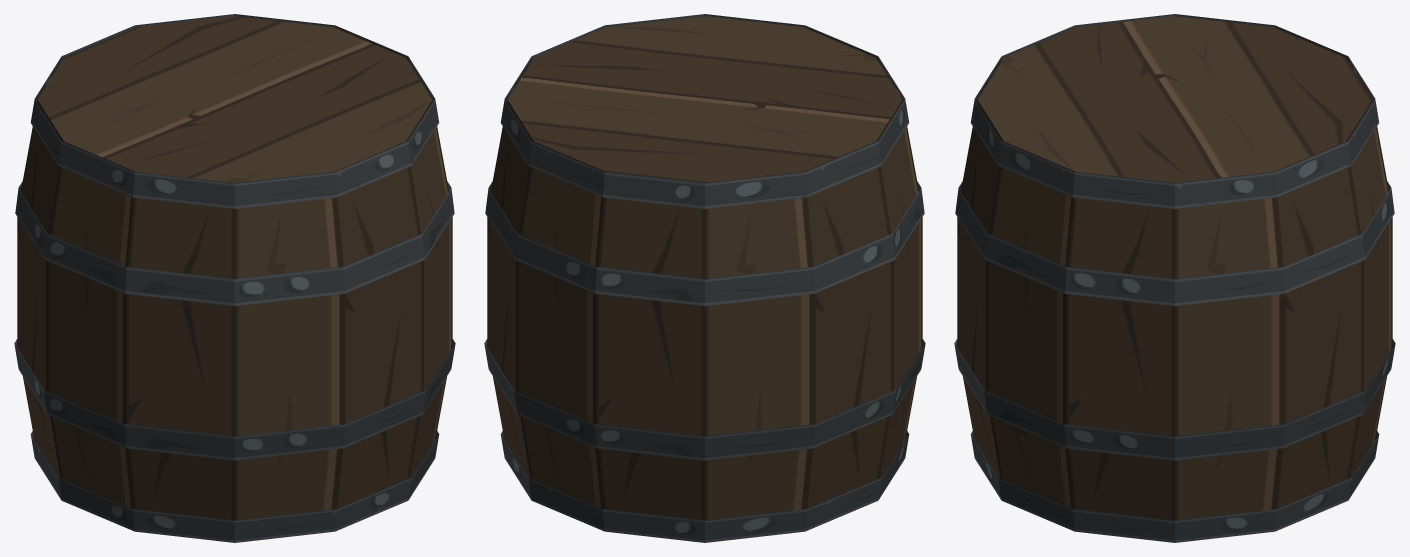
The model's file is Barrel.fbx.
The picture shows the model from 3 angles, left to right: view 1: azimuth 30°, elevation 25°; view 2: azimuth 150°, elevation 25°; view 3: azimuth 270°, elevation 25°; orthographic projection.
Parts seen in each view (by area): view 1: Lid_001, Plank_005, Plank_004, Plank_003, Plank_006, Rim_001, Rim_002, Rim_003, Rim_004, Plank_007, Plank_002; view 2: Lid_001, Plank_011, Plank_001, Plank_010, Plank_002, Rim_001, Rim_002, Rim_003, Rim_004, Plank_012, Plank_003; view 3: Lid_001, Plank_009, Plank_008, Plank_012, Plank_007, Rim_001, Rim_002, Rim_003, Rim_004, Plank_010, Plank_006.
Boxes of the visible parts, left/top/right/bottom form: Lid_001: left=37, top=16, right=432, bottom=182; Plank_005: left=235, top=172, right=343, bottom=520; Plank_004: left=126, top=172, right=234, bottom=520; Plank_003: left=46, top=141, right=135, bottom=508; Plank_006: left=334, top=141, right=423, bottom=508; Rim_001: left=30, top=14, right=439, bottom=208; Rim_002: left=15, top=181, right=454, bottom=306; Rim_003: left=14, top=339, right=455, bottom=460; Rim_004: left=30, top=431, right=439, bottom=542; Plank_007: left=406, top=100, right=452, bottom=478; Plank_002: left=17, top=100, right=63, bottom=478; Lid_001: left=507, top=16, right=902, bottom=182; Plank_011: left=596, top=172, right=704, bottom=520; Plank_001: left=705, top=172, right=813, bottom=520; Plank_010: left=516, top=141, right=605, bottom=508; Plank_002: left=804, top=141, right=893, bottom=508; Rim_001: left=500, top=14, right=909, bottom=208; Rim_002: left=485, top=181, right=924, bottom=306; Rim_003: left=484, top=339, right=925, bottom=460; Rim_004: left=500, top=431, right=909, bottom=542; Plank_012: left=487, top=100, right=533, bottom=478; Plank_003: left=876, top=100, right=922, bottom=478; Lid_001: left=977, top=16, right=1372, bottom=182; Plank_009: left=1175, top=172, right=1283, bottom=520; Plank_008: left=1066, top=172, right=1174, bottom=520; Plank_012: left=1274, top=141, right=1363, bottom=508; Plank_007: left=986, top=141, right=1075, bottom=508; Rim_001: left=970, top=14, right=1379, bottom=208; Rim_002: left=955, top=181, right=1394, bottom=306; Rim_003: left=954, top=339, right=1395, bottom=460; Rim_004: left=970, top=431, right=1379, bottom=542; Plank_010: left=1346, top=100, right=1392, bottom=478; Plank_006: left=957, top=100, right=1003, bottom=478.
Bounding box in the file's own units: 1.12 × 1.01 × 1.12.
